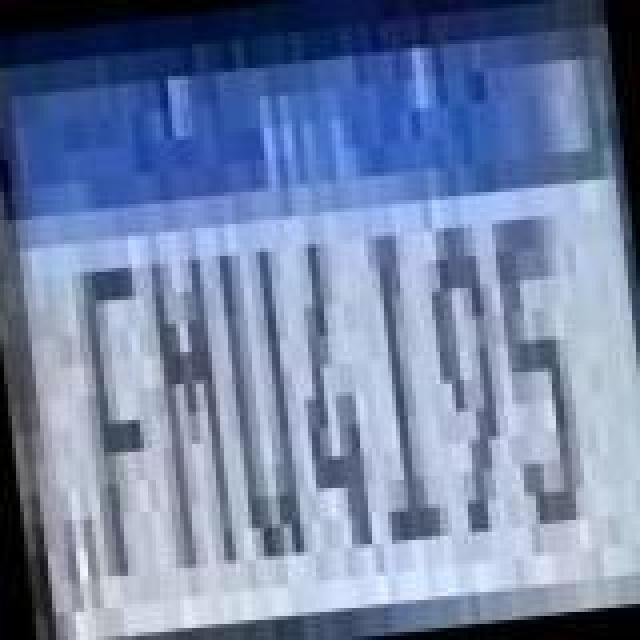4: (280, 226, 376, 558)
5: (484, 208, 588, 544)
9: (414, 214, 514, 538)
F: (68, 250, 172, 582)
I: (352, 216, 448, 552)
M: (142, 232, 242, 576)
U: (212, 232, 308, 568)
